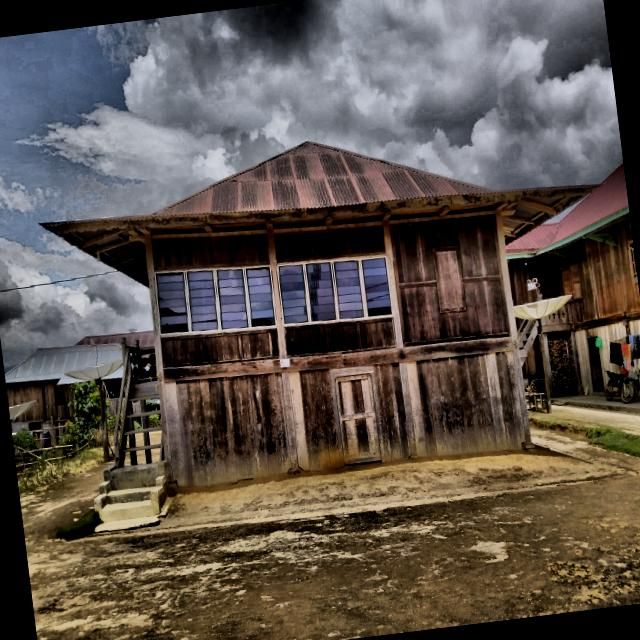door: (334, 372, 381, 464), (587, 336, 604, 391)
ornamen: (545, 302, 569, 324)
roof: (41, 142, 593, 285), (506, 163, 629, 255), (4, 343, 121, 384), (75, 330, 154, 348)
stair: (93, 347, 169, 521), (517, 319, 537, 366)
wall: (151, 233, 279, 369), (273, 224, 397, 357), (388, 213, 511, 346), (163, 373, 291, 488), (511, 216, 640, 323), (288, 362, 410, 470), (405, 351, 525, 455)
window: (432, 246, 466, 312), (155, 271, 189, 334), (215, 267, 249, 329), (244, 266, 278, 328), (186, 269, 219, 332), (360, 256, 393, 317), (305, 261, 337, 322), (277, 263, 309, 324), (333, 259, 365, 319), (561, 261, 583, 302), (627, 239, 638, 284)
